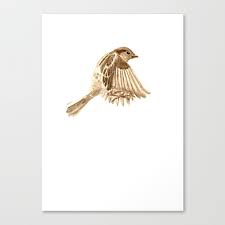hsparrow: (64, 45, 152, 120)
